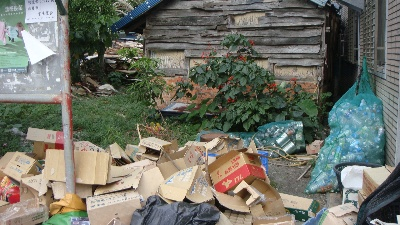box: (208, 146, 266, 192), (85, 191, 141, 225), (138, 135, 173, 163)
plastic_bag: (305, 57, 387, 196)
